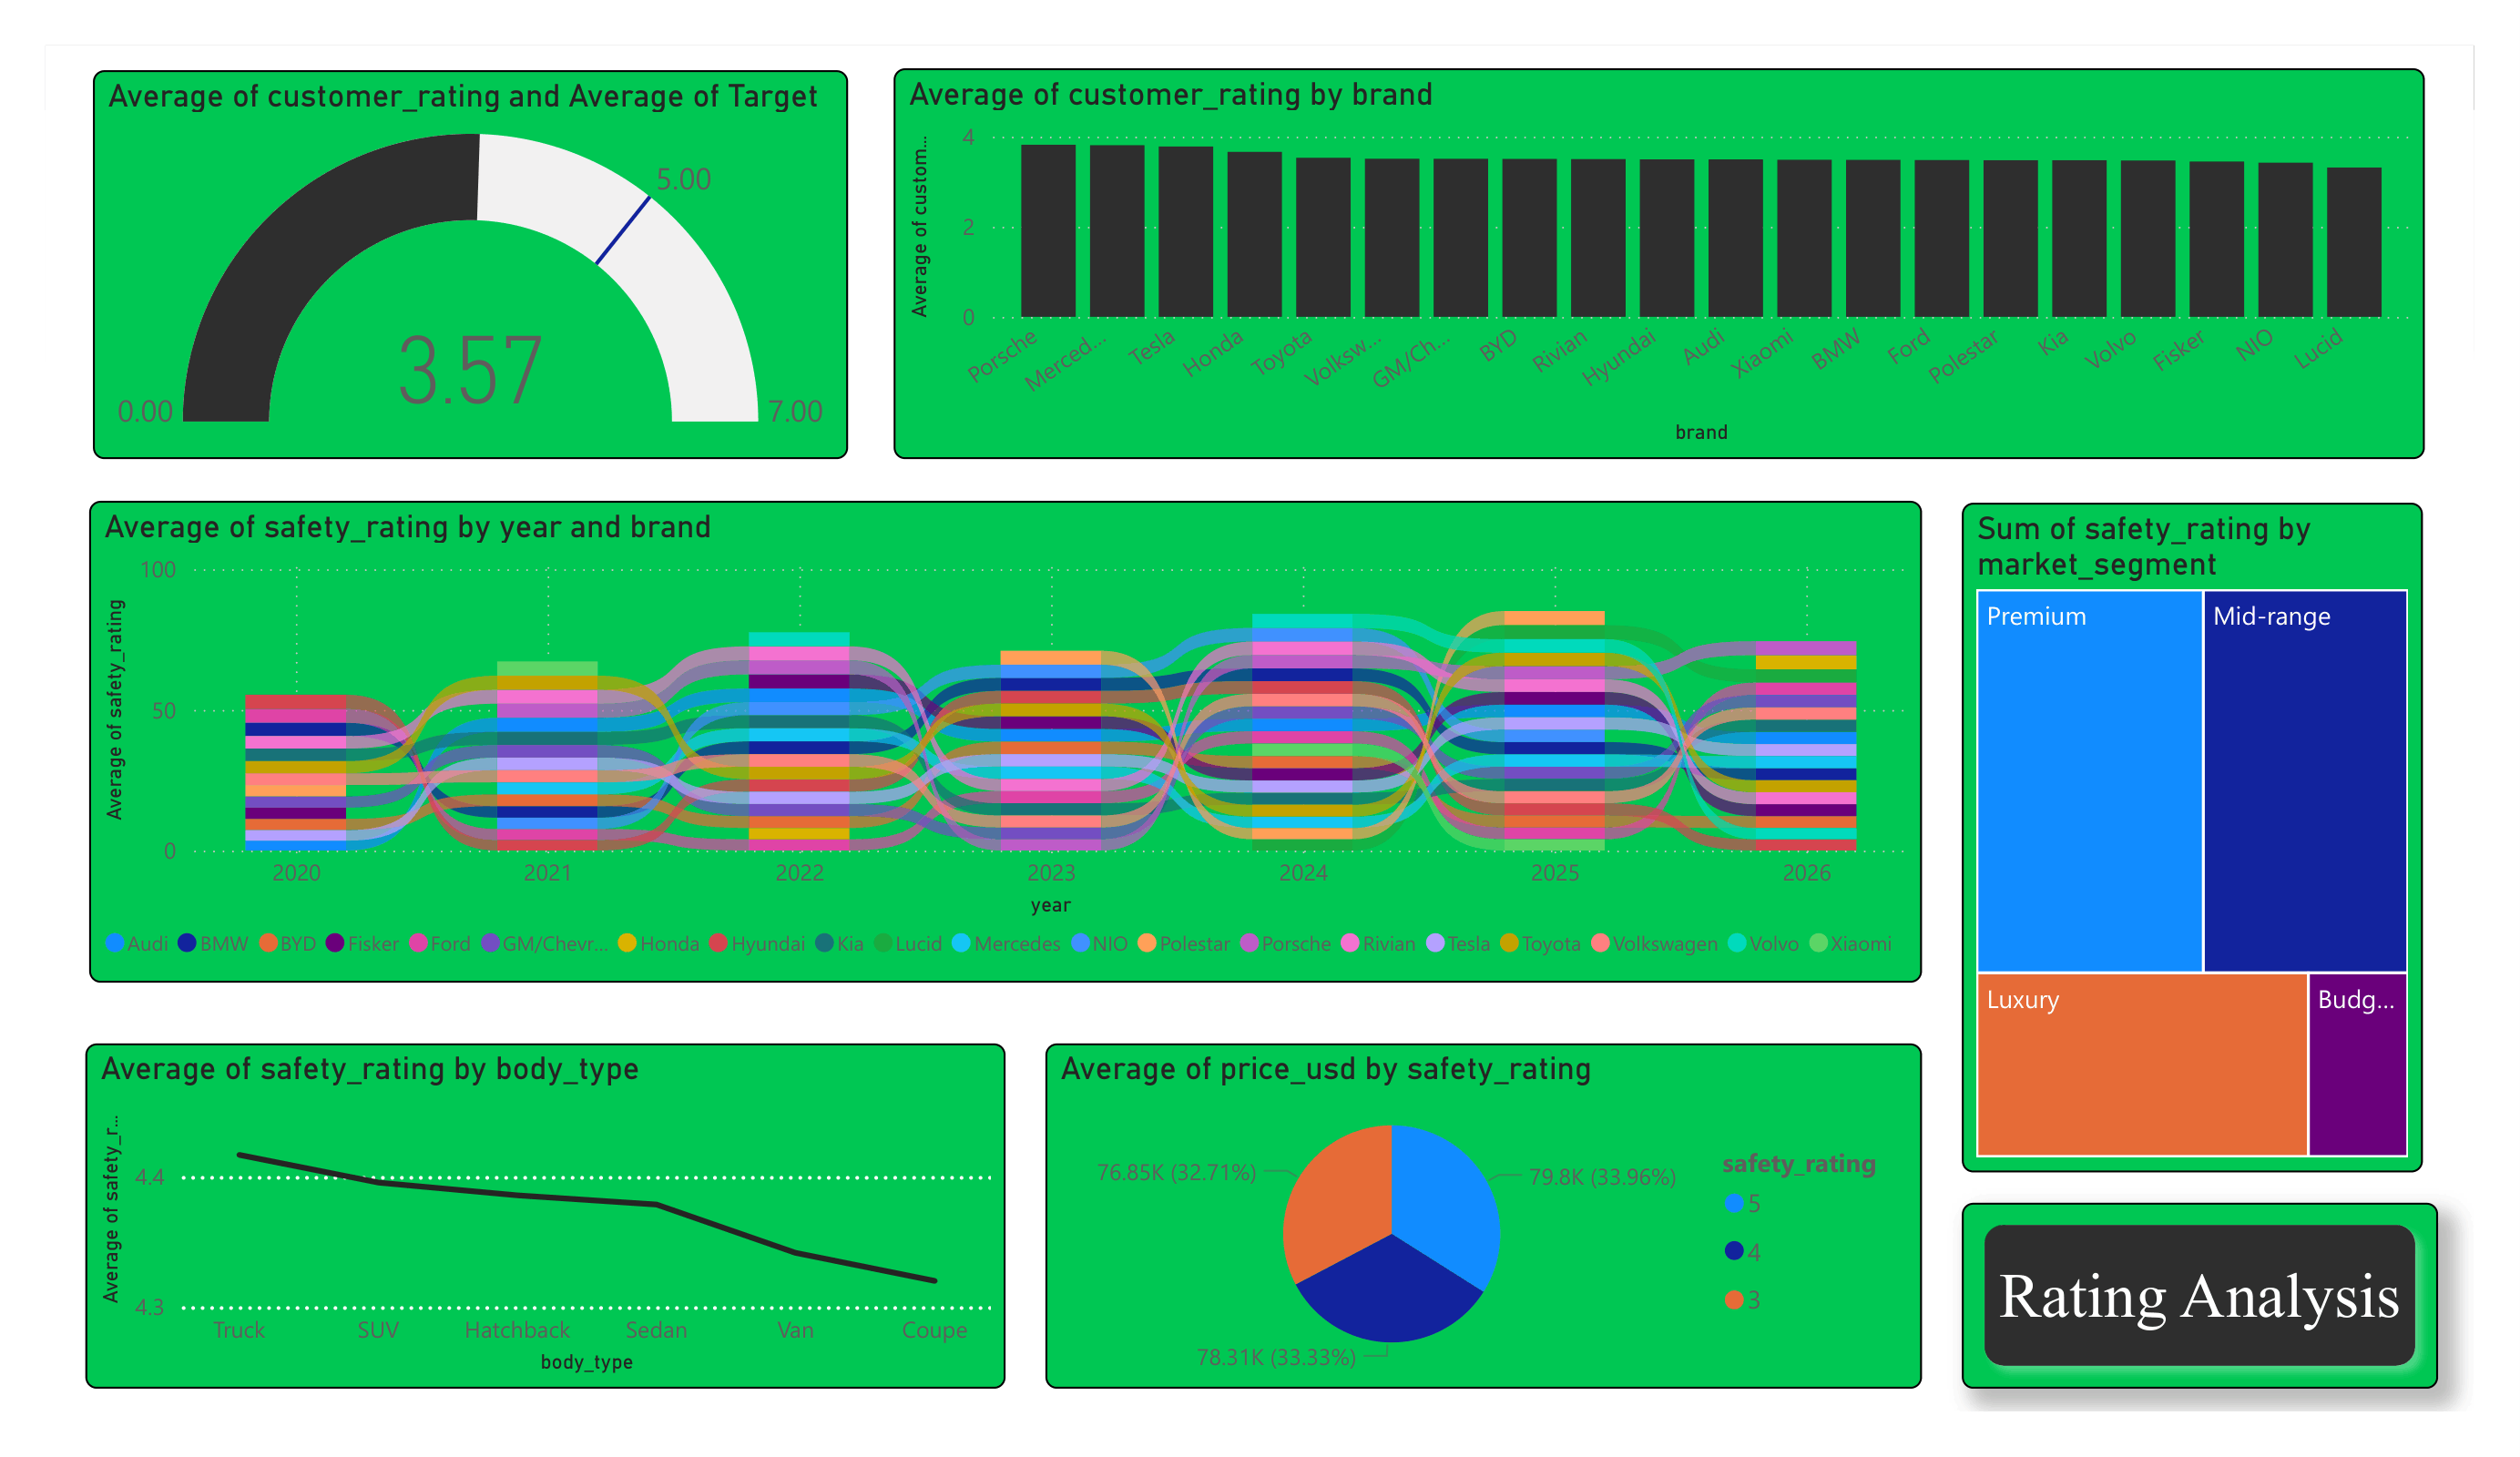

This screenshot's page, from the dashboard's own definition file:
{"tool":"powerbi","page":{"name":"Page 3","canvas":[1280,720],"ordinal":2},"visuals":[{"type":"gauge","fields":{"TargetValue":["Avg(ev_market_2026.Target)"],"Y":["Avg(ev_market_2026.customer_rating)"]},"box":[25,12.5,397.9,205.9],"z":0},{"type":"lineChart","fields":{"Y":["Avg(ev_market_2026.safety_rating)"],"Category":["ev_market_2026.body_type"]},"box":[20.9,525.9,485.6,182.3],"z":1000},{"type":"lineClusteredColumnComboChart","fields":{"Category":["ev_market_2026.brand"],"Y":["Avg(ev_market_2026.customer_rating)"]},"box":[447.3,12.3,806.9,205.8],"z":2000},{"type":"ribbonChart","fields":{"Category":["ev_market_2026.year"],"Series":["ev_market_2026.brand"],"Y":["Avg(ev_market_2026.safety_rating)"]},"box":[23.3,240.1,966,253.9],"z":3000},{"type":"treemap","fields":{"Values":["Sum(ev_market_2026.safety_rating)"],"Group":["ev_market_2026.market_segment"]},"box":[1010.1,240.9,243.3,353.4],"z":4000},{"type":"pieChart","fields":{"Y":["Avg(ev_market_2026.price_usd)"],"Category":["ev_market_2026.safety_rating"]},"box":[527.3,525.9,461.9,182.3],"z":5000},{"type":"shape","box":[1010.1,610.2,250.7,97.8],"z":6000}]}

Visuals, with their boxes in screenshot pixels (x1, y1, x2, y2):
gauge - Avg(ev_market_2026.Target) x Avg(ev_market_2026.customer_rating): bbox=[112, 69, 858, 455]
lineChart - Avg(ev_market_2026.safety_rating) x ev_market_2026.body_type: bbox=[105, 1031, 1015, 1372]
lineClusteredColumnComboChart - ev_market_2026.brand x Avg(ev_market_2026.customer_rating): bbox=[903, 69, 2414, 454]
ribbonChart - ev_market_2026.year x ev_market_2026.brand: bbox=[109, 495, 1918, 971]
treemap - Sum(ev_market_2026.safety_rating) x ev_market_2026.market_segment: bbox=[1957, 497, 2413, 1158]
pieChart - Avg(ev_market_2026.price_usd) x ev_market_2026.safety_rating: bbox=[1053, 1031, 1918, 1372]
shape: bbox=[1957, 1188, 2427, 1371]
